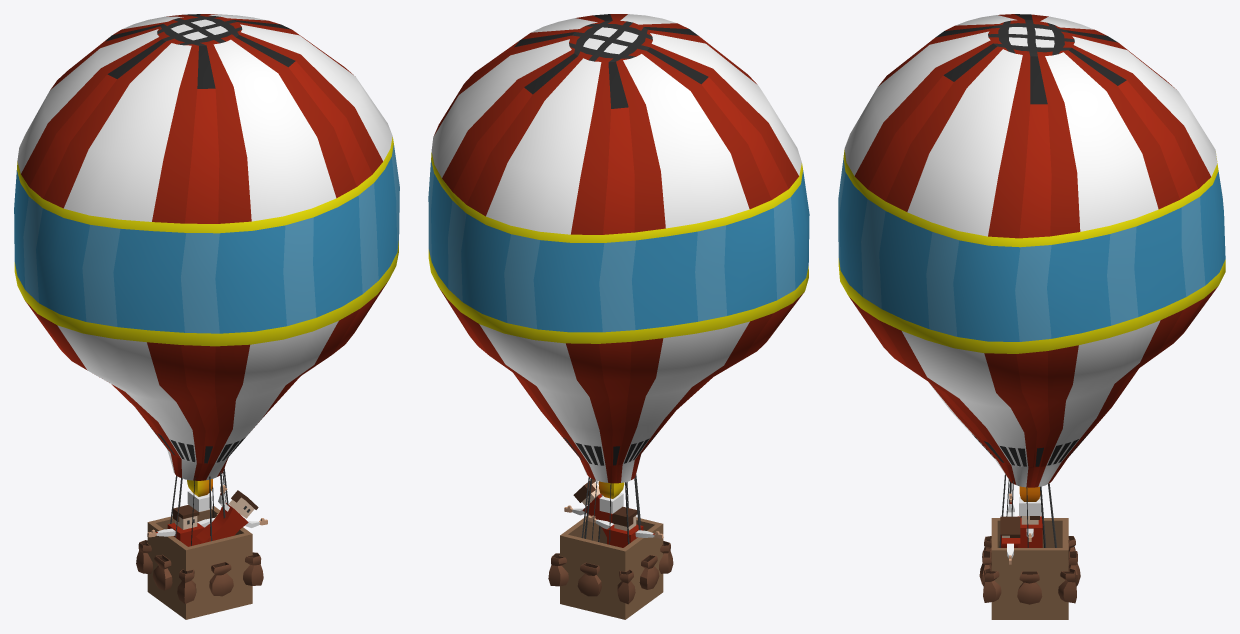
Rendered from ballon.glb.
3 views of the same model, side by side, from view 1: azimuth 30°, elevation 25°; view 2: azimuth 150°, elevation 25°; view 3: azimuth 270°, elevation 25° (orthographic).
Parts seen in each view (by area): view 1: Balloon, Bags, Strings; view 2: Balloon, Bags, Strings; view 3: Balloon, Bags, Strings.
Part boxes in pixels (bbox=[...]): Balloon: bbox=[14, 14, 399, 619]; Bags: bbox=[136, 540, 263, 603]; Strings: bbox=[170, 468, 228, 545]; Balloon: bbox=[428, 14, 809, 619]; Bags: bbox=[548, 541, 673, 604]; Strings: bbox=[581, 474, 641, 544]; Balloon: bbox=[838, 14, 1225, 619]; Bags: bbox=[979, 536, 1080, 604]; Strings: bbox=[999, 474, 1056, 547].
Size of the model in its own units: 6.06 by 9.4 by 5.8.
Materials: 1 (1 with a texture image).
